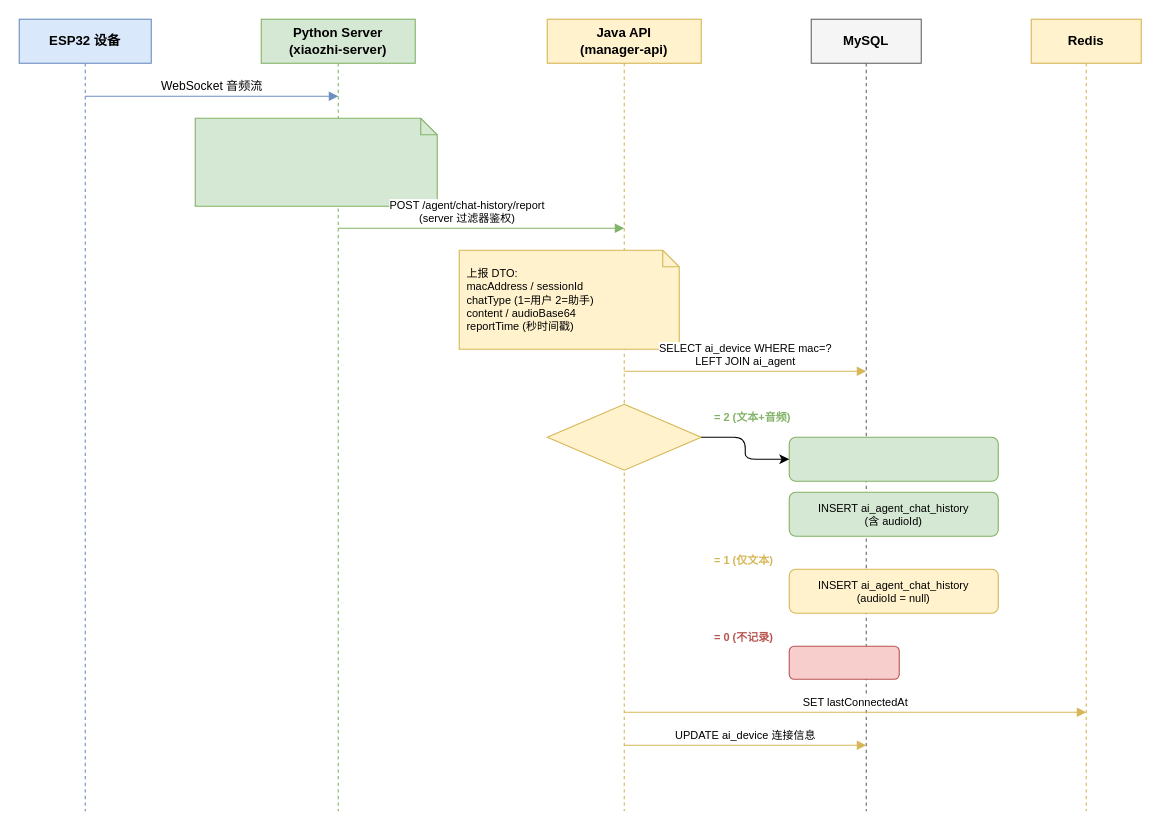
Some shapes in this 1161 by 831 pixel diagram are drawn without their labels. The centre of each missing label's shape, as x and y in pixels:
"1. Opus 解码 → PCM → WAV 2. 根据 chatHistoryConf 决定 是否携带音频 3. Base64 编码 WAV" goes at pixel 315 161.
"chatHistoryConf?" goes at pixel 623 436.
"INSERT ai_agent_chat_audio (LONGBLOB)" goes at pixel 893 458.
"跳过写入" goes at pixel 843 662.
